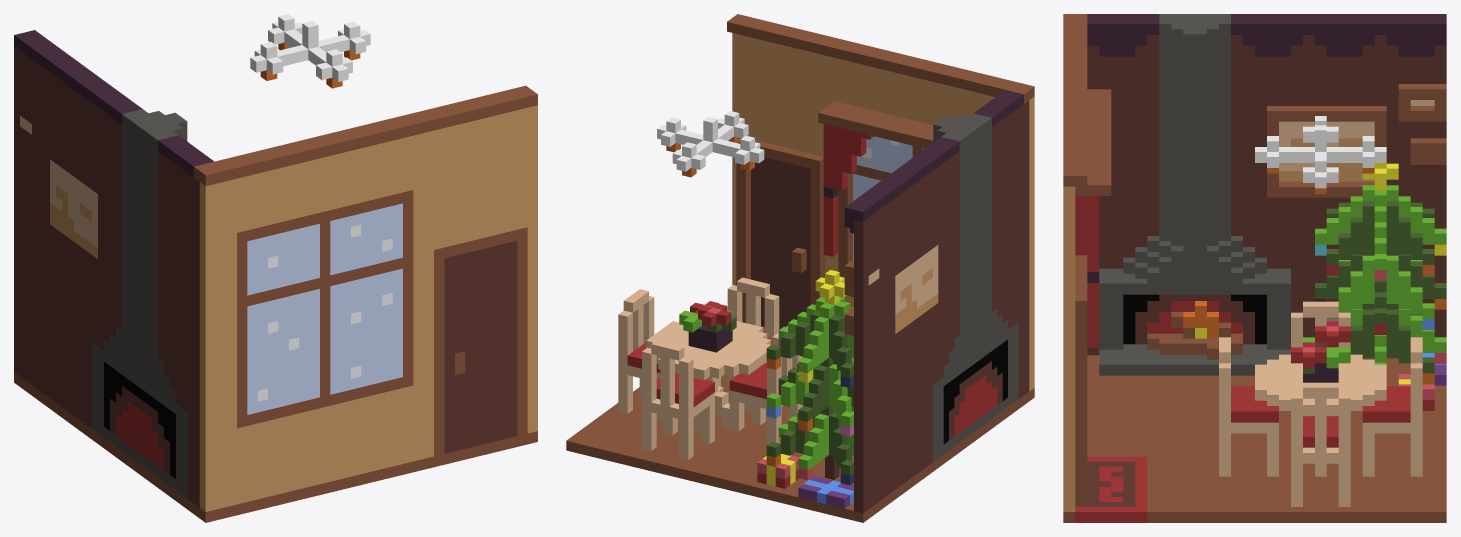
Rendered from Dining room xmas.obj.
3 renders of one model, left to right at view 1: azimuth 30°, elevation 25°; view 2: azimuth 150°, elevation 25°; view 3: azimuth 270°, elevation 25°, orthographic. The views are drawn at different scales.
Parts seen in each view (by area): view 1: Dining room xmas; view 2: Dining room xmas; view 3: Dining room xmas.
Part boxes in pixels (box(x1,y1,x2,y2)): Dining room xmas: box(14, 14, 537, 522); Dining room xmas: box(566, 14, 1034, 522); Dining room xmas: box(1063, 14, 1446, 522).
Size of the model in its own units: 32 by 32 by 32.
